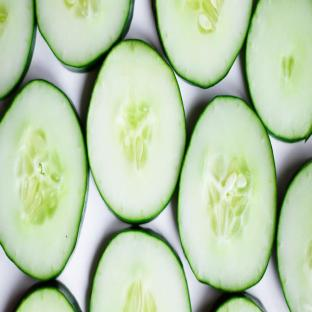Cucumber: (178, 97, 276, 291), (87, 40, 185, 223), (0, 80, 88, 280), (246, 0, 311, 141), (90, 230, 190, 311), (277, 162, 311, 311), (0, 0, 35, 99), (16, 281, 81, 311), (213, 293, 265, 311)
